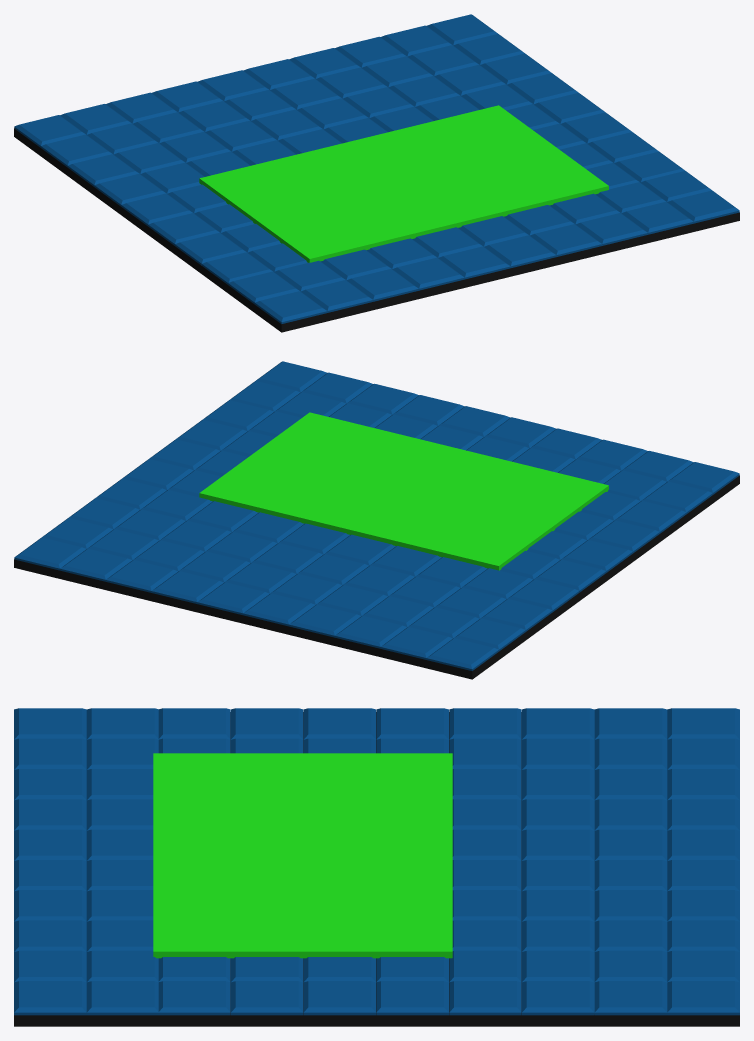
File: floor_tier11.fbx
The picture shows the model from 3 angles, top to bottom: view 1: azimuth 30°, elevation 25°; view 2: azimuth 150°, elevation 25°; view 3: azimuth 270°, elevation 25°; orthographic projection. The views are drawn at different scales.
Parts seen in each view (by area): view 1: Cube, Cube.001, Cube.101, Cube.098, Cube.093, Cube.094, Cube.097, Cube.100, Cube.092, Cube.095, Cube.096, Cube.099 (+66 smaller); view 2: Cube, Cube.001, Cube.010, Cube.006, Cube.007, Cube.011, Cube.002, Cube.005, Cube.009, Cube.003, Cube.004, Cube.008 (+66 smaller); view 3: Cube, Cube.001, Cube.012, Cube.011, Cube.032, Cube.042, Cube.092, Cube.082, Cube.022, Cube.052, Cube.062, Cube.072 (+66 smaller).
Boxes of the visible parts, <box> form: Cube: <box>199,105,608,262</box>; Cube.001: <box>14,128,739,332</box>; Cube.101: <box>255,291,327,323</box>; Cube.098: <box>392,257,464,290</box>; Cube.093: <box>621,202,693,234</box>; Cube.094: <box>576,213,648,245</box>; Cube.097: <box>438,246,510,279</box>; Cube.100: <box>301,280,373,312</box>; Cube.092: <box>667,190,739,223</box>; Cube.095: <box>530,224,602,256</box>; Cube.096: <box>484,235,556,267</box>; Cube.099: <box>347,269,418,301</box>; Cube: <box>199,412,608,570</box>; Cube.001: <box>14,475,739,679</box>; Cube.010: <box>426,638,498,670</box>; Cube.006: <box>243,593,315,626</box>; Cube.007: <box>289,604,361,637</box>; Cube.011: <box>14,537,86,570</box>; Cube.002: <box>60,549,132,581</box>; Cube.005: <box>197,582,269,614</box>; Cube.009: <box>380,627,452,659</box>; Cube.003: <box>106,560,177,592</box>; Cube.004: <box>151,571,223,603</box>; Cube.008: <box>335,616,406,648</box>; Cube: <box>153,753,452,958</box>; Cube.001: <box>14,712,739,1026</box>; Cube.012: <box>594,981,667,1015</box>; Cube.011: <box>667,981,739,1015</box>; Cube.032: <box>449,981,521,1015</box>; Cube.042: <box>376,981,448,1015</box>; Cube.092: <box>14,981,86,1015</box>; Cube.082: <box>86,981,159,1015</box>; Cube.022: <box>522,981,594,1015</box>; Cube.052: <box>303,981,375,1015</box>; Cube.062: <box>231,981,303,1015</box>; Cube.072: <box>158,981,230,1015</box>.
Size of the model in its own units: 654 by 22.62 by 662.
